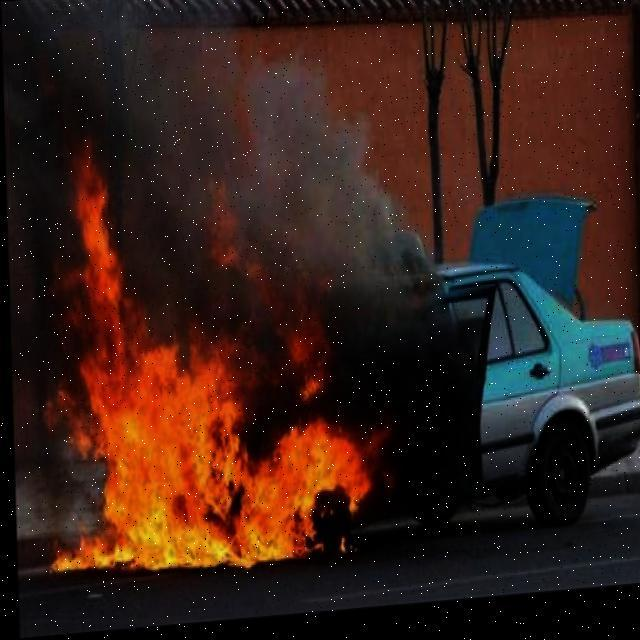Fire: (38, 110, 391, 580)
